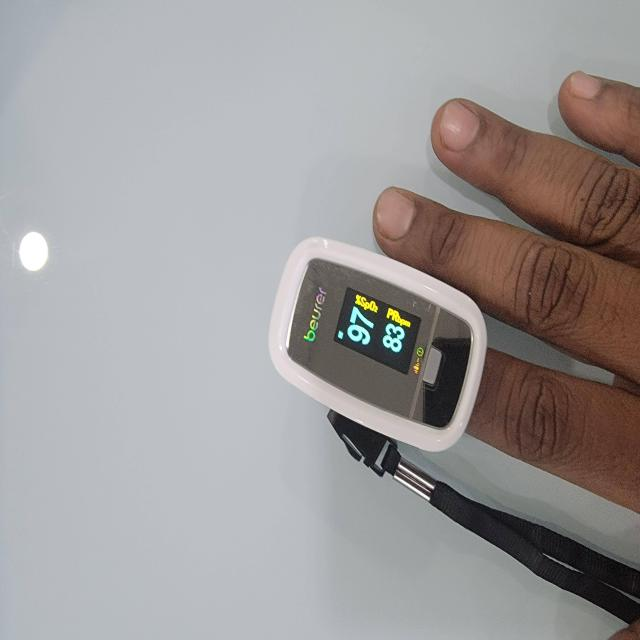spo2: (267, 237, 488, 455)
